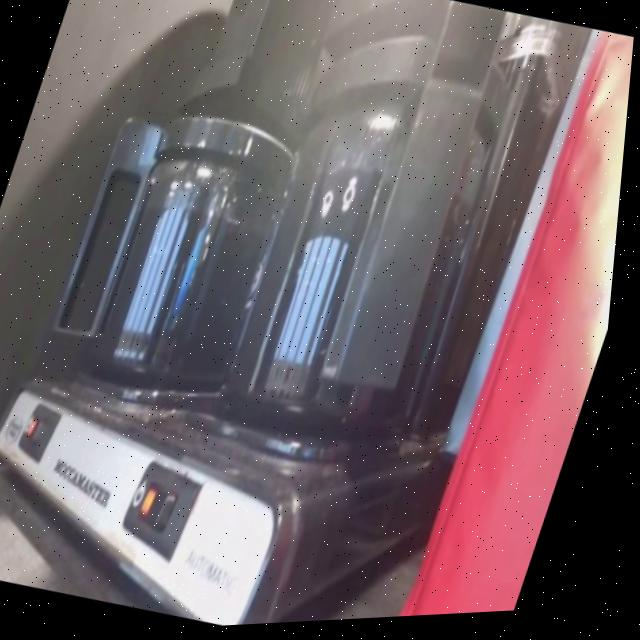coffee: (223, 126, 494, 452), (87, 156, 294, 399)
